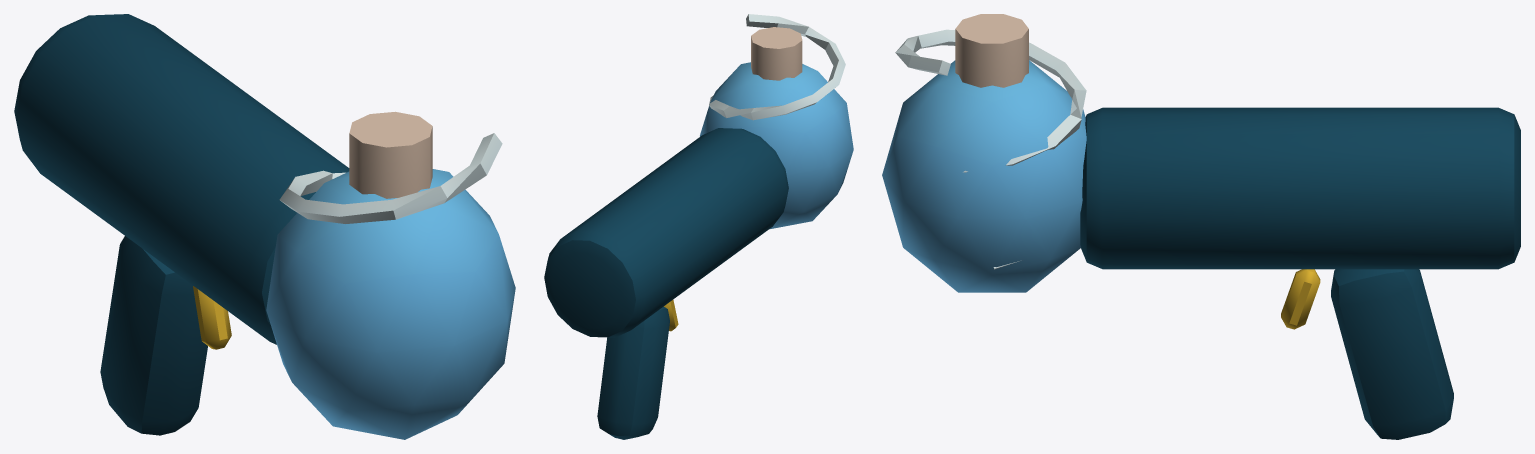
Rendered from w_n_whirl.glb.
3 renders of one model, left to right at view 1: azimuth 30°, elevation 25°; view 2: azimuth 150°, elevation 25°; view 3: azimuth 270°, elevation 25°, orthographic. The views are drawn at different scales.
Parts seen in each view (by area): view 1: body; view 2: body; view 3: body.
Part boxes in pixels (<box>): body: <box>14,14,515,439</box>; body: <box>544,14,853,439</box>; body: <box>882,14,1520,439</box>.
Bounding box in the file's own units: 0.2425 × 0.5197 × 0.7395.
